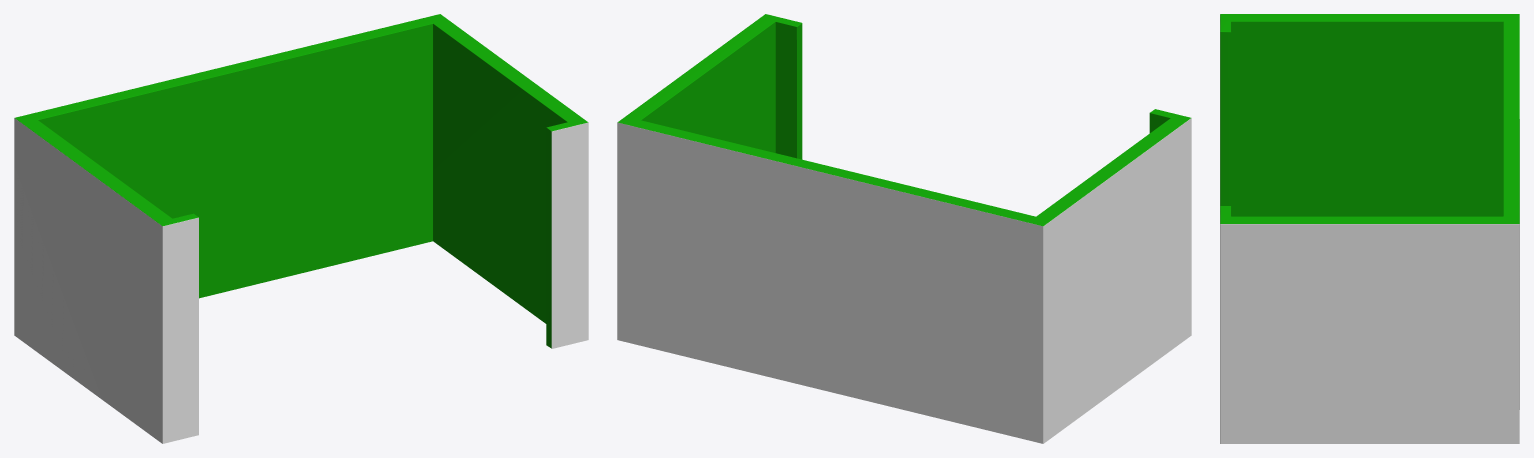
Rendered from StudioLuxuryOuterWall_02_Mesh.fbx.
The picture shows the model from 3 angles, left to right: view 1: azimuth 30°, elevation 25°; view 2: azimuth 150°, elevation 25°; view 3: azimuth 270°, elevation 25°; orthographic projection.
Visible parts, largest first — view 1: StudioLuxuryOuterWall_02_Mesh; view 2: StudioLuxuryOuterWall_02_Mesh; view 3: StudioLuxuryOuterWall_02_Mesh.
Part boxes in pixels (bbox=[...]): StudioLuxuryOuterWall_02_Mesh: bbox=[14, 14, 588, 443]; StudioLuxuryOuterWall_02_Mesh: bbox=[617, 14, 1191, 443]; StudioLuxuryOuterWall_02_Mesh: bbox=[1220, 14, 1519, 443].
Bounding box in the file's own units: 1618 × 790 × 976.
